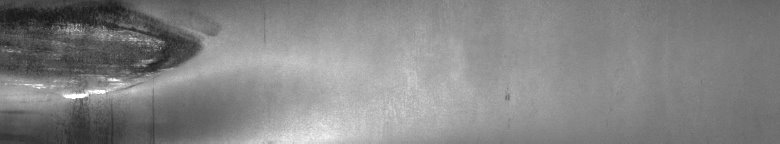ke: (4, 4, 221, 136)
